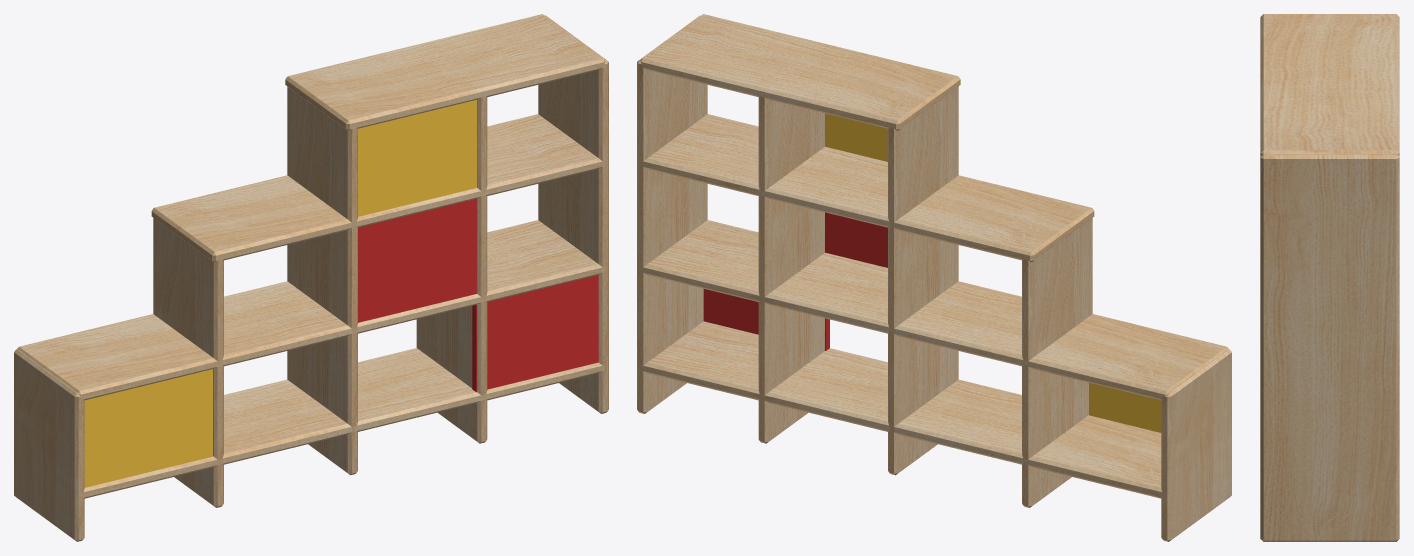
File: Play Room_rack_01.fbx
The picture shows the model from 3 angles, left to right: view 1: azimuth 30°, elevation 25°; view 2: azimuth 150°, elevation 25°; view 3: azimuth 270°, elevation 25°; orthographic projection. The views are drawn at different scales.
Visible parts, largest first — view 1: Play_Room_Rack_01; view 2: Play_Room_Rack_01; view 3: Play_Room_Rack_01.
Boxes of the visible parts, x1,y1,x2,y2 form: Play_Room_Rack_01: [14, 14, 608, 541]; Play_Room_Rack_01: [637, 14, 1231, 541]; Play_Room_Rack_01: [1260, 14, 1399, 541].
Bounding box in the file's own units: 336 × 214 × 69.12.
